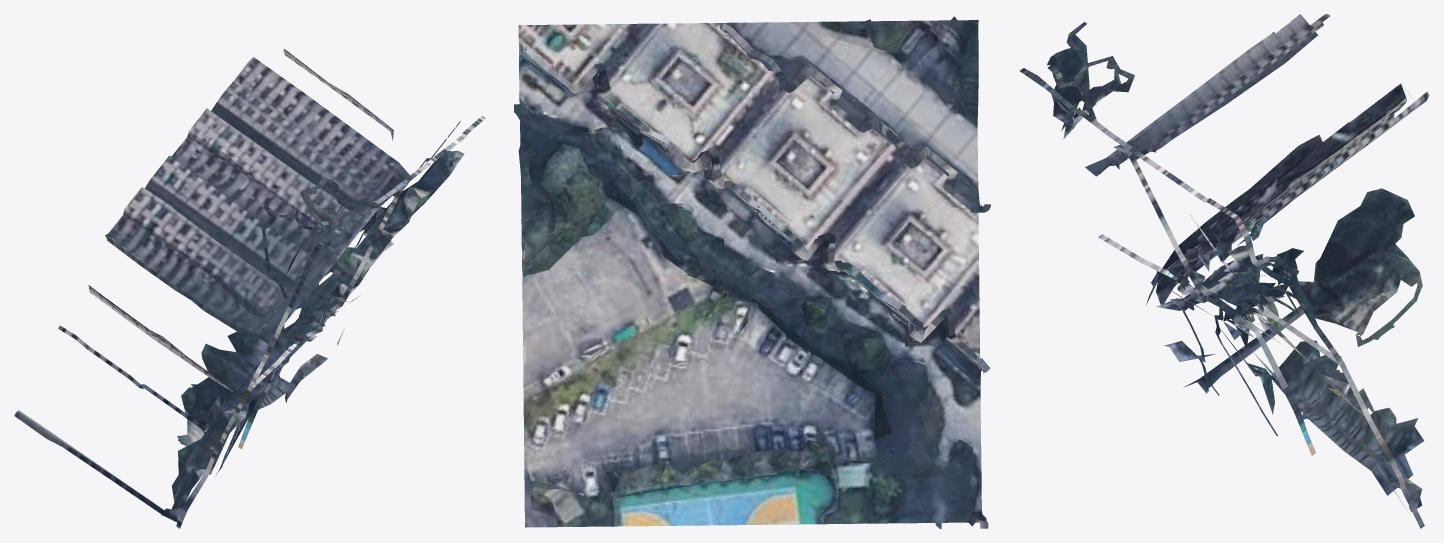
3 renders of one model, left to right at view 1: azimuth 30°, elevation 25°; view 2: azimuth 150°, elevation 25°; view 3: azimuth 270°, elevation 25°, orthographic. The views are drawn at different scales.
Bounding box in the file's own units: 95.44 × 86.34 × 69.23.
Materials: 2 (2 with a texture image).
